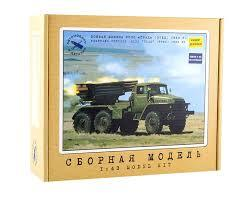MIL_SAM_TEL: (71, 78, 190, 135)
